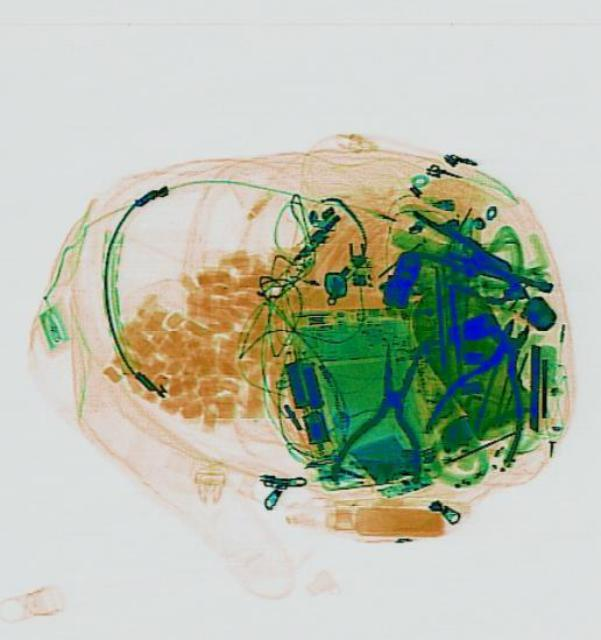Pliers: (418, 300, 563, 468), (327, 334, 444, 496), (395, 206, 522, 294)
